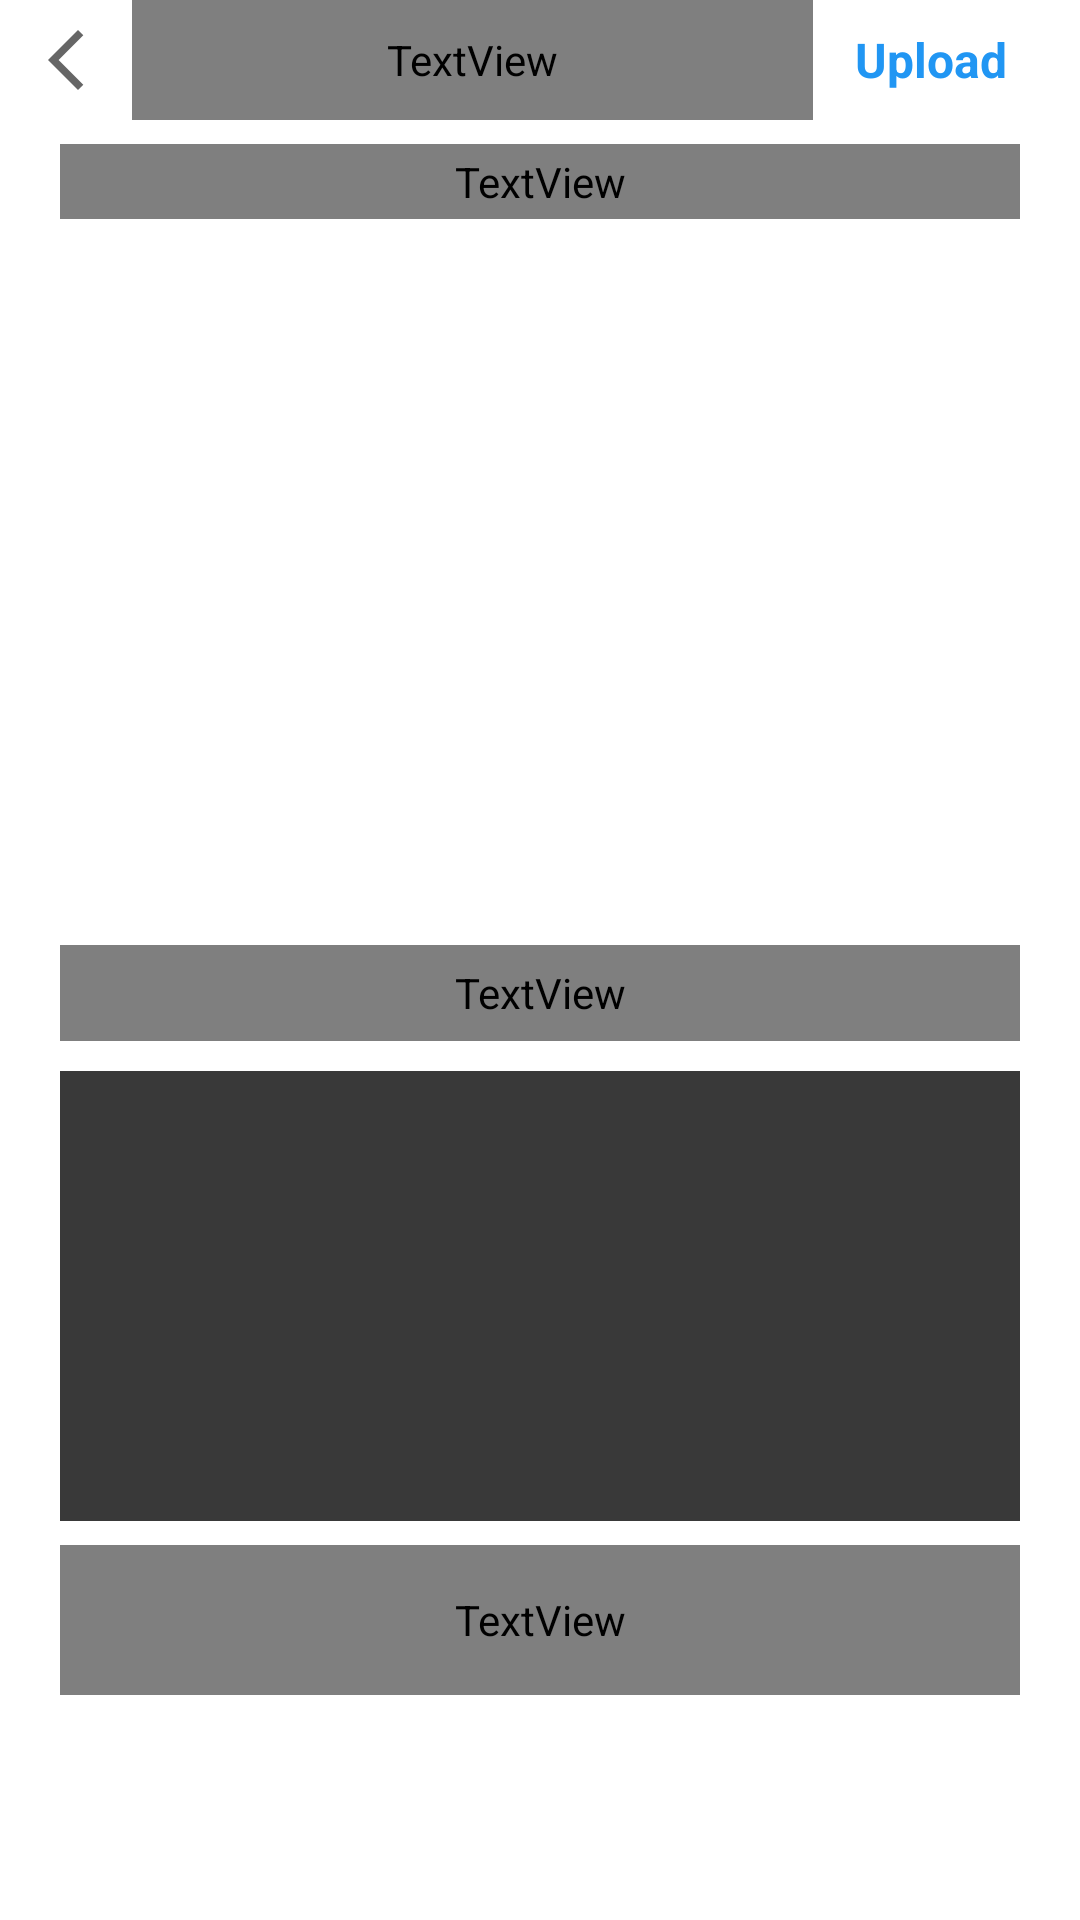

Where icons sit on this 1080x1920 app screen, as bbox=(x1, y1, x2, y2):
backtohome: bbox=(48, 30, 83, 90)
